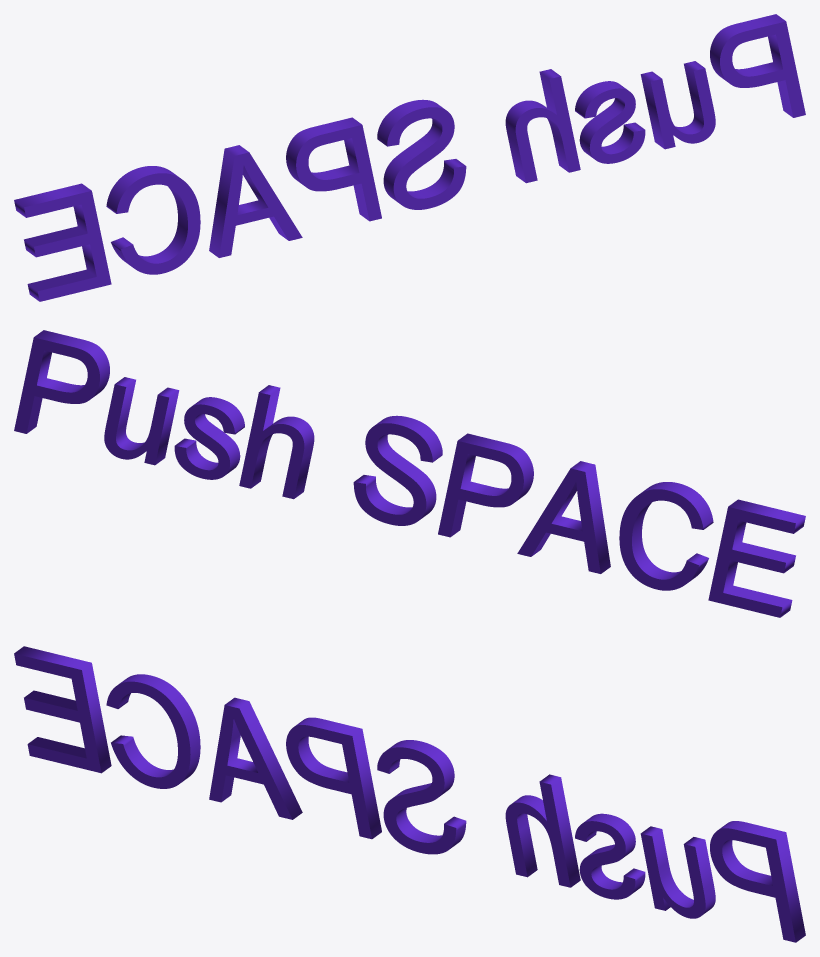
File: PushSpace.obj
3 views of the same model, one above another, from view 1: azimuth 30°, elevation 25°; view 2: azimuth 150°, elevation 25°; view 3: azimuth 330°, elevation 25° (orthographic).
Parts seen in each view (by area): view 1: テキスト; view 2: テキスト; view 3: テキスト.
Boxes of the visible parts, x1,y1,x2,y2 form: テキスト: (14,14,805,301); テキスト: (14,330,805,617); テキスト: (14,646,805,942).
Bounding box in the file's own units: 37 × 4.6 × 0.8223.
1 material, 1 textured.
